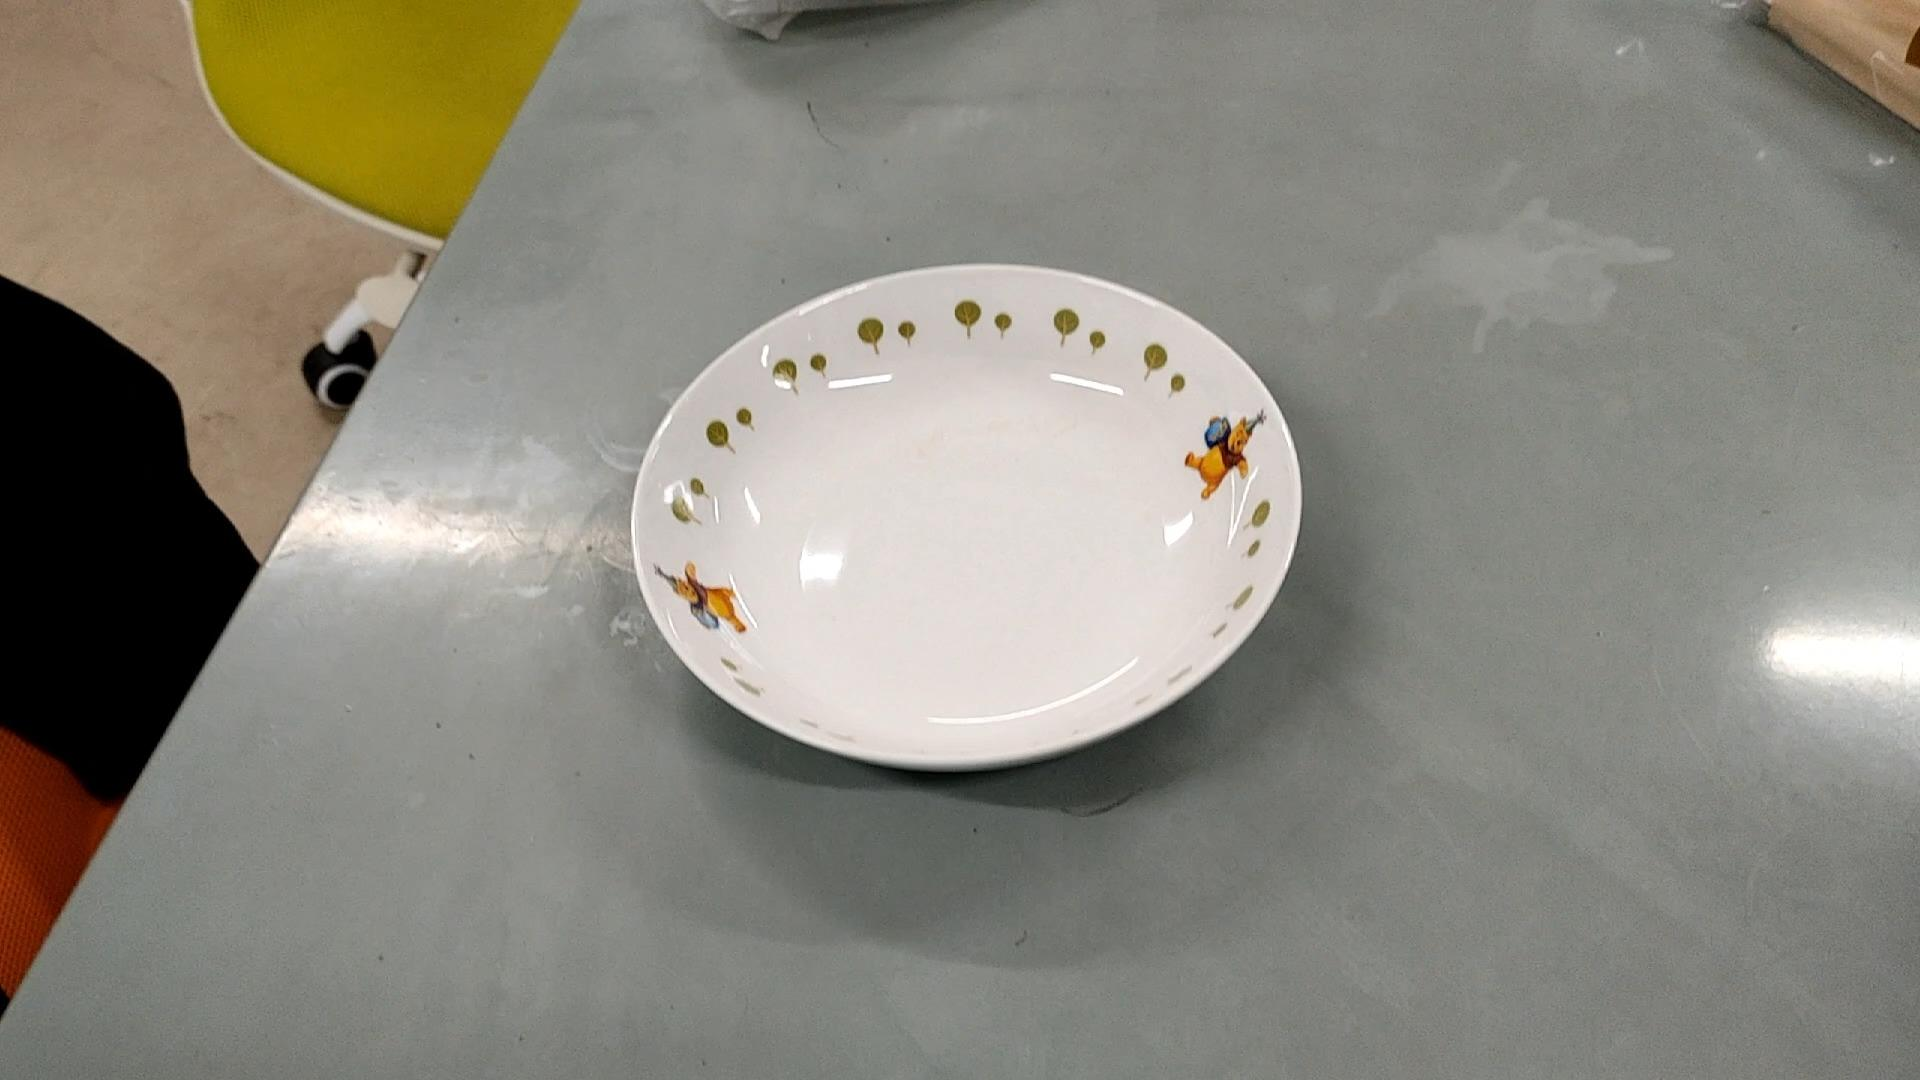plate: (636, 261, 1302, 766)
